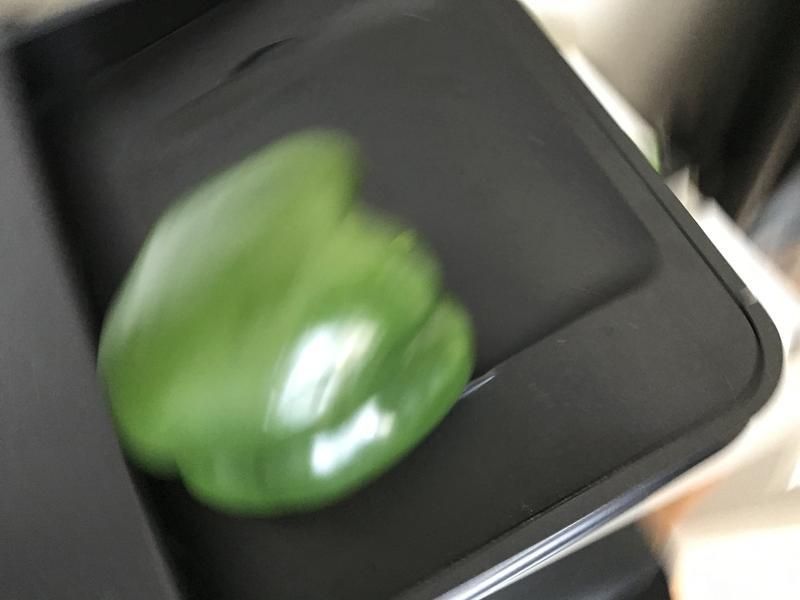green_pepper: (76, 116, 499, 524)
